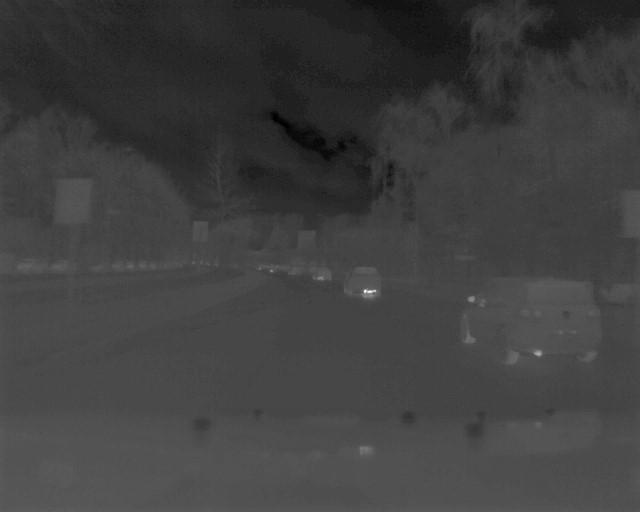car: (459, 275, 606, 370)
